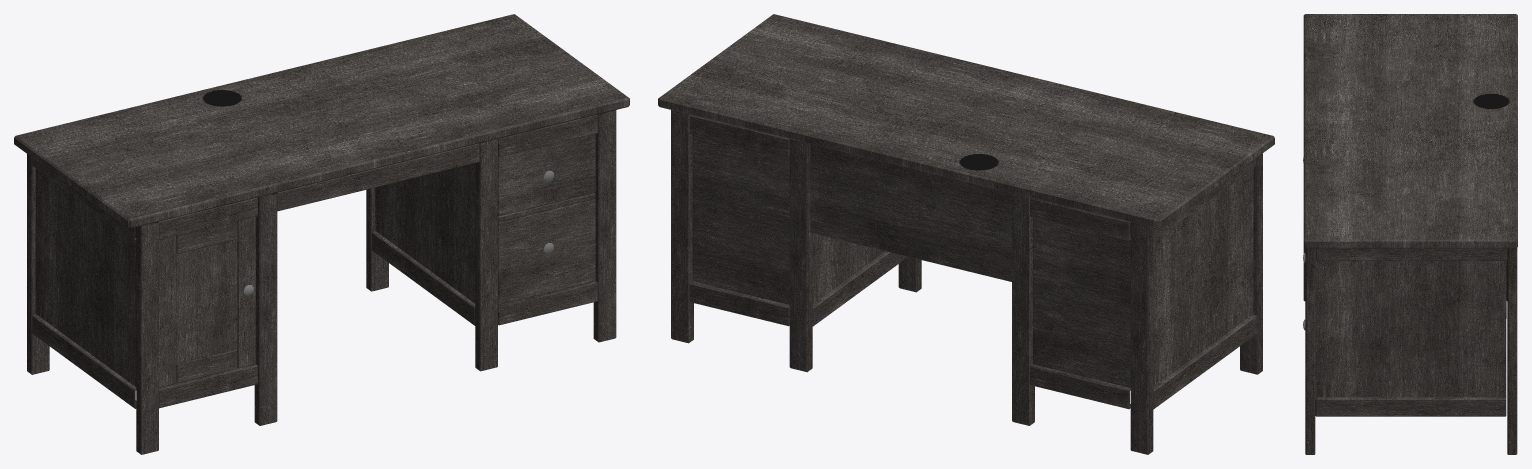
Rendered from mesasoldadura.fbx.
3 views of the same model, side by side, from view 1: azimuth 30°, elevation 25°; view 2: azimuth 150°, elevation 25°; view 3: azimuth 270°, elevation 25° (orthographic). The views are drawn at different scales.
Parts seen in each view (by area): view 1: Desk; view 2: Desk; view 3: Desk.
Part boxes in pixels (x1,y1,x2,y2): Desk: (14,14,629,454); Desk: (658,14,1274,454); Desk: (1303,14,1517,454).
Bounding box in the file's own units: 200 × 90.8 × 80.
